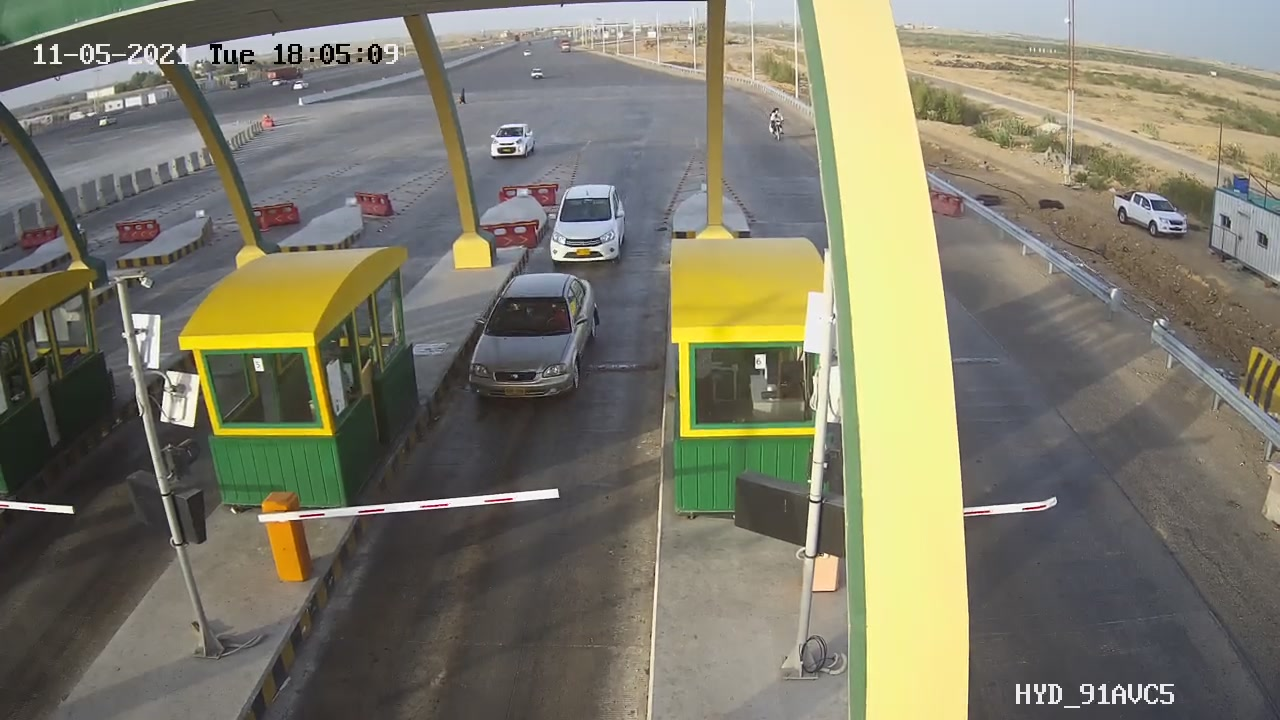F1: (453, 269, 613, 416), (542, 173, 638, 269)
